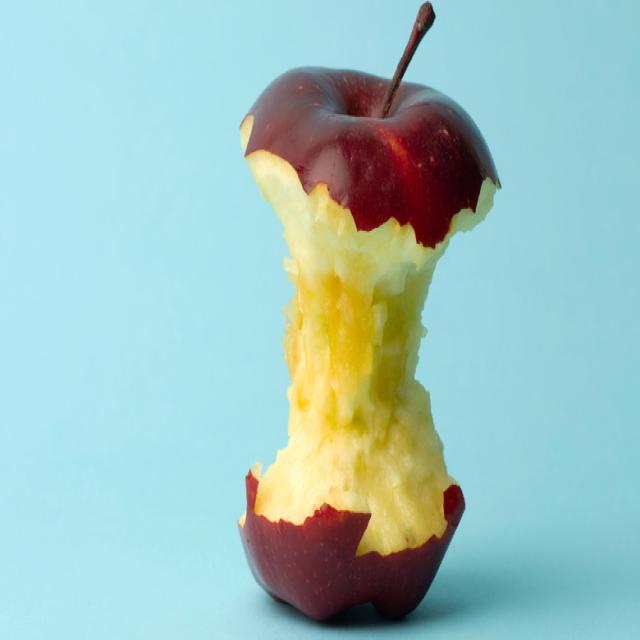apple_fruit: (217, 25, 526, 634)
